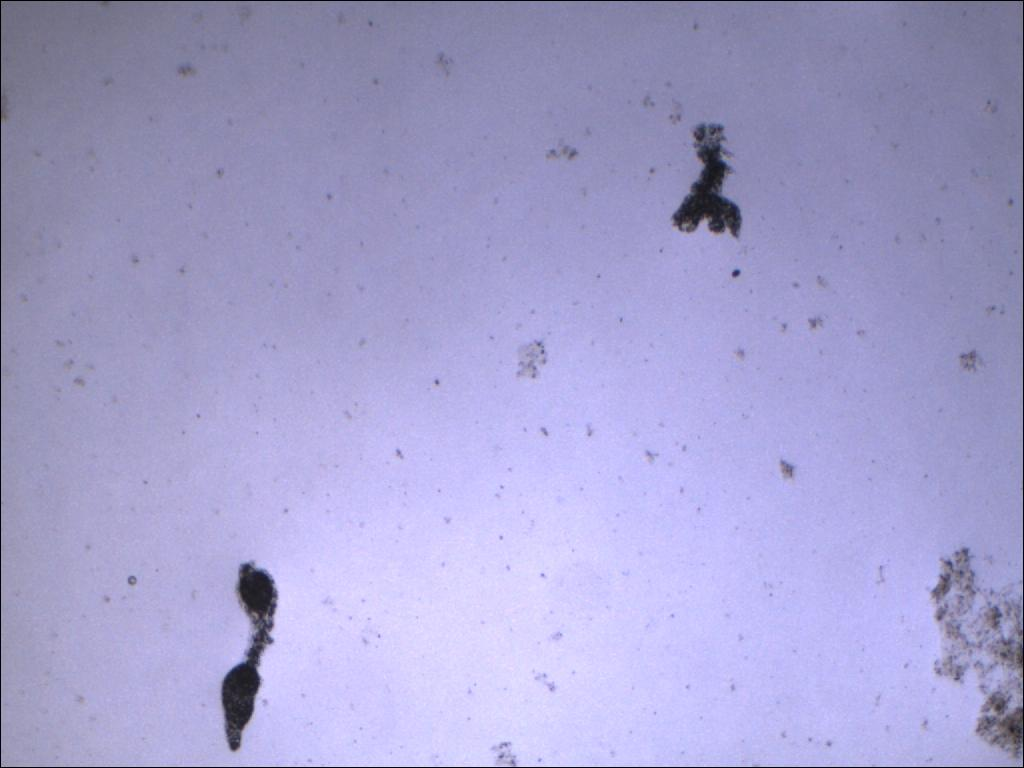amoeba: (212, 558, 288, 756), (668, 119, 753, 244)
